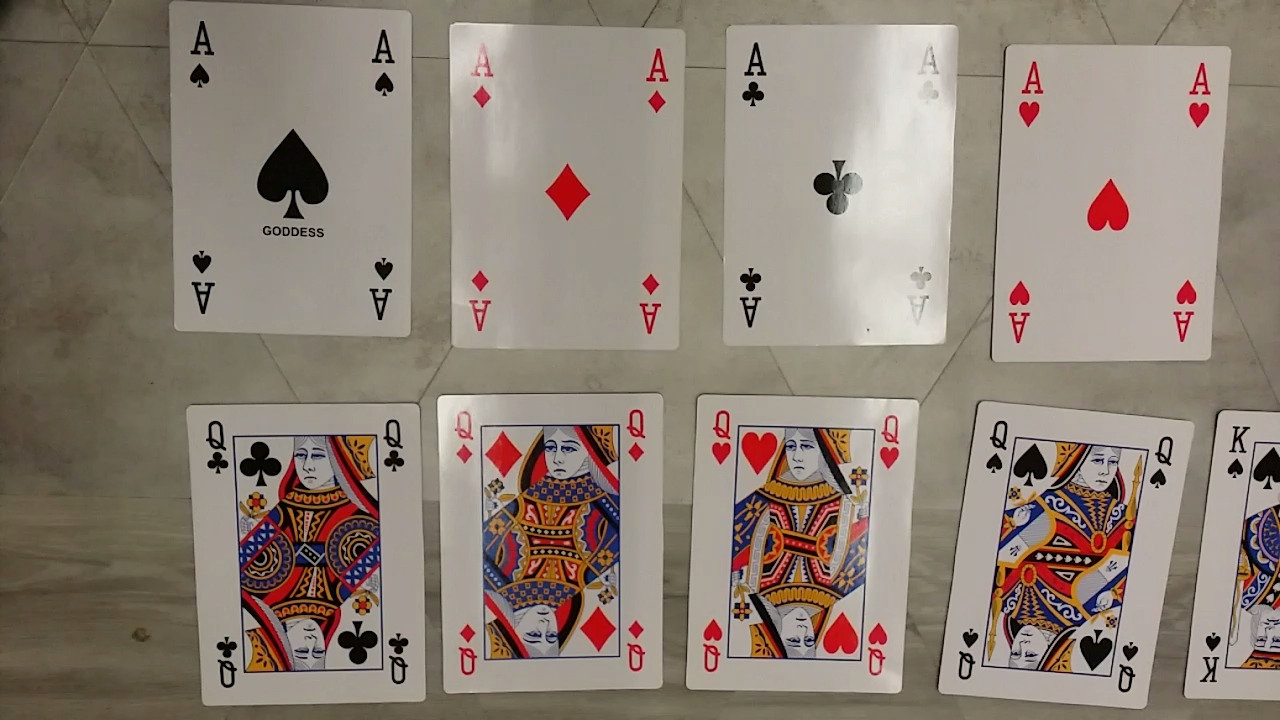1_club: (723, 23, 960, 345)
1_diamond: (450, 21, 683, 350)
1_heart: (988, 45, 1230, 365)
1_spade: (166, 0, 414, 339)
king_spade: (1183, 408, 1280, 700)
queen_club: (184, 403, 424, 704)
queen_diamond: (433, 392, 665, 696)
queen_heart: (685, 390, 922, 691)
queen_spade: (935, 398, 1191, 713)
